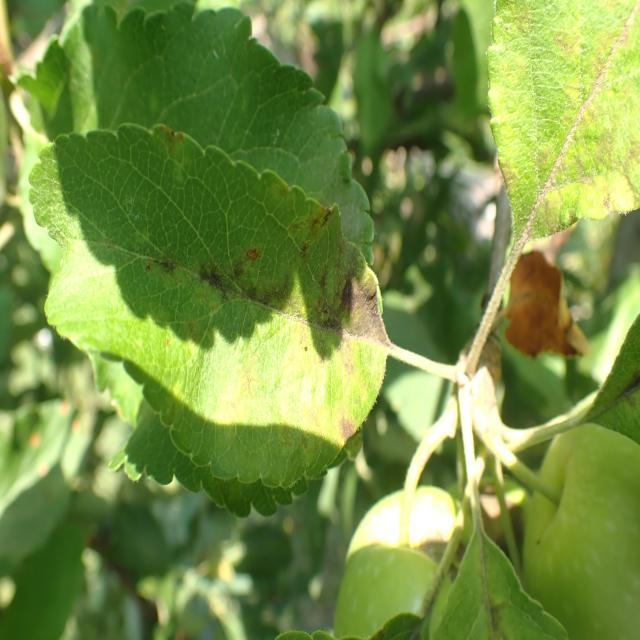scab: (104, 110, 392, 462)
